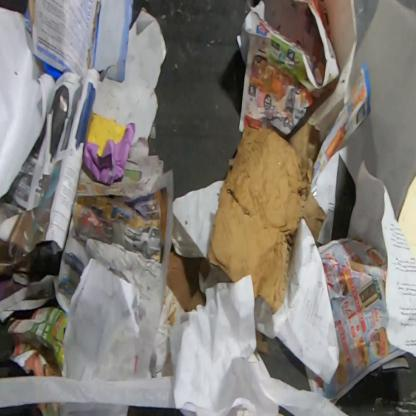cardboard: (207, 120, 329, 315), (24, 0, 135, 84)
